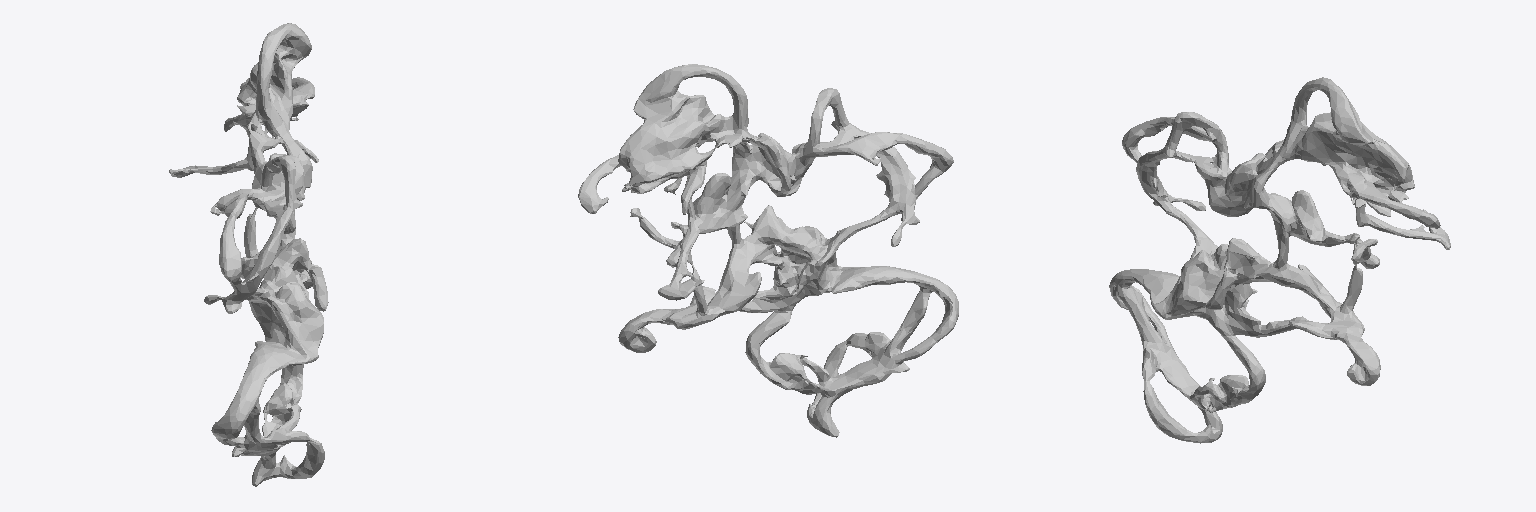
File: ab42b052a952_a_sprawling_dark_re.obj
The picture shows the model from 3 angles: view 1: azimuth 30°, elevation 25°; view 2: azimuth 150°, elevation 25°; view 3: azimuth 270°, elevation 25°; orthographic projection.
Visible parts, largest first — view 1: mesh; view 2: mesh; view 3: mesh.
Boxes of the visible parts, x1=… form: mesh: x1=169, y1=23, x2=328, y2=486; mesh: x1=578, y1=64, x2=958, y2=437; mesh: x1=1109, y1=77, x2=1450, y2=443.
Size of the model in its own units: 0.6107 by 0.9998 by 0.7849.